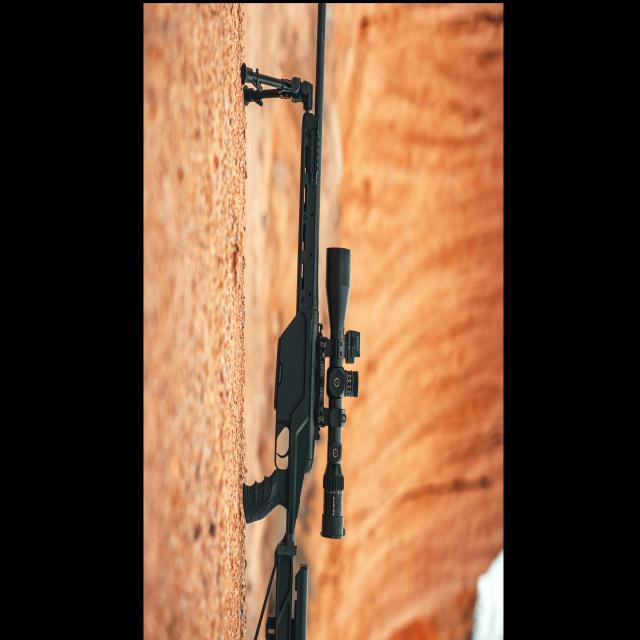weapon: (240, 3, 362, 640)
